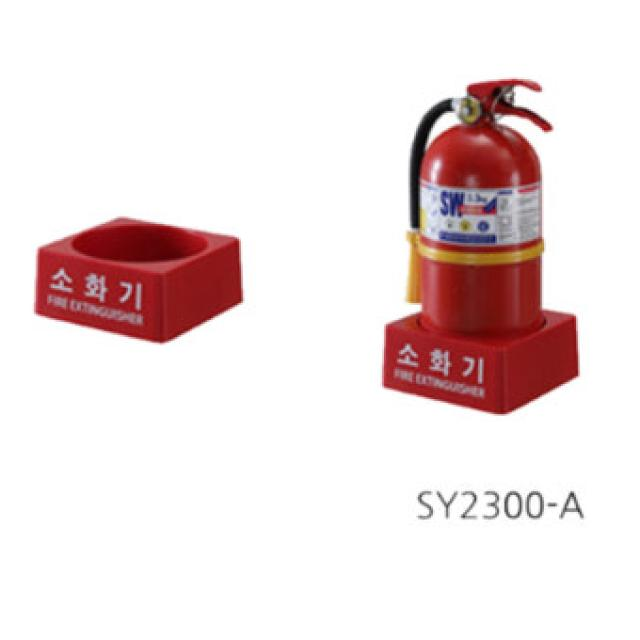pressure gauge: (460, 98, 479, 122)
